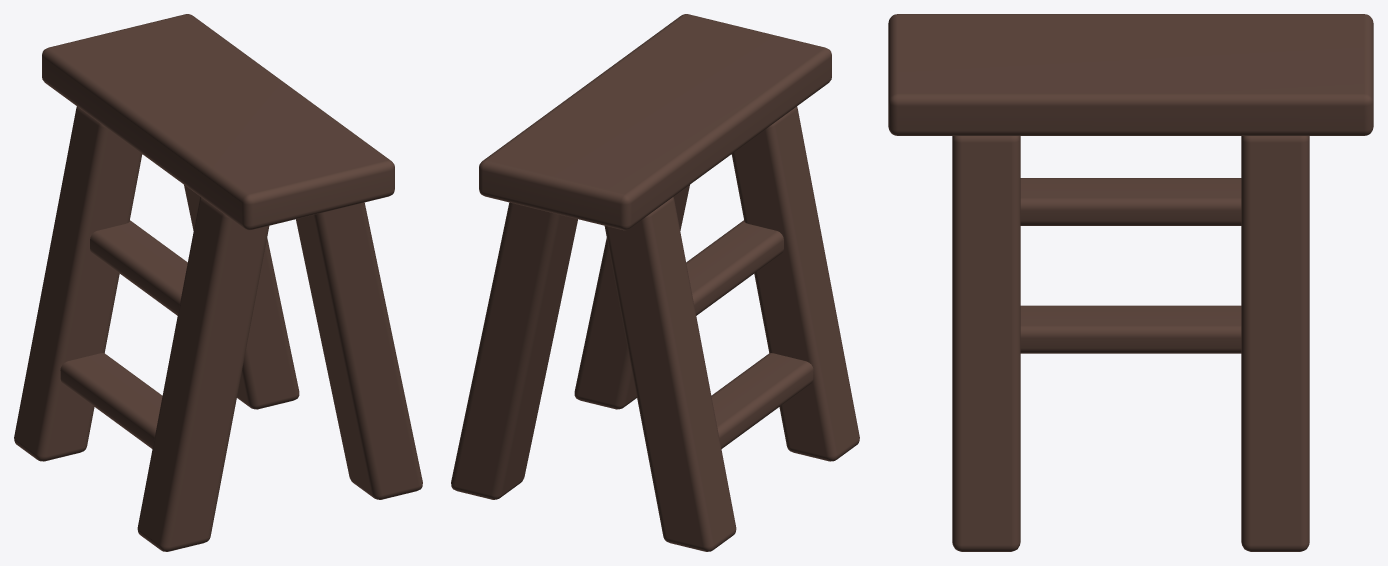
File: stepladder.fbx
The picture shows the model from 3 angles, left to right: view 1: azimuth 30°, elevation 25°; view 2: azimuth 150°, elevation 25°; view 3: azimuth 270°, elevation 25°; orthographic projection. The views are drawn at different scales.
Visible parts, largest first — view 1: stepladder; view 2: stepladder; view 3: stepladder.
Boxes of the visible parts, x1,y1,x2,y2 form: stepladder: [14, 14, 422, 551]; stepladder: [451, 14, 859, 551]; stepladder: [888, 14, 1373, 551].
Bounding box in the file's own units: 105 × 139 × 144.
